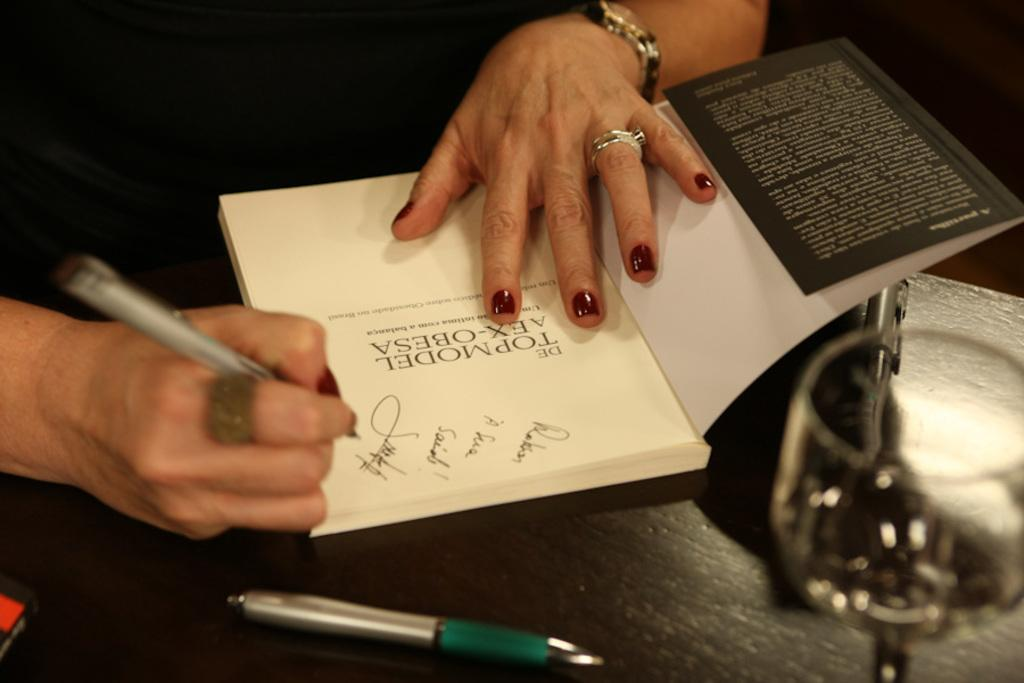Book: (217, 31, 1023, 550)
